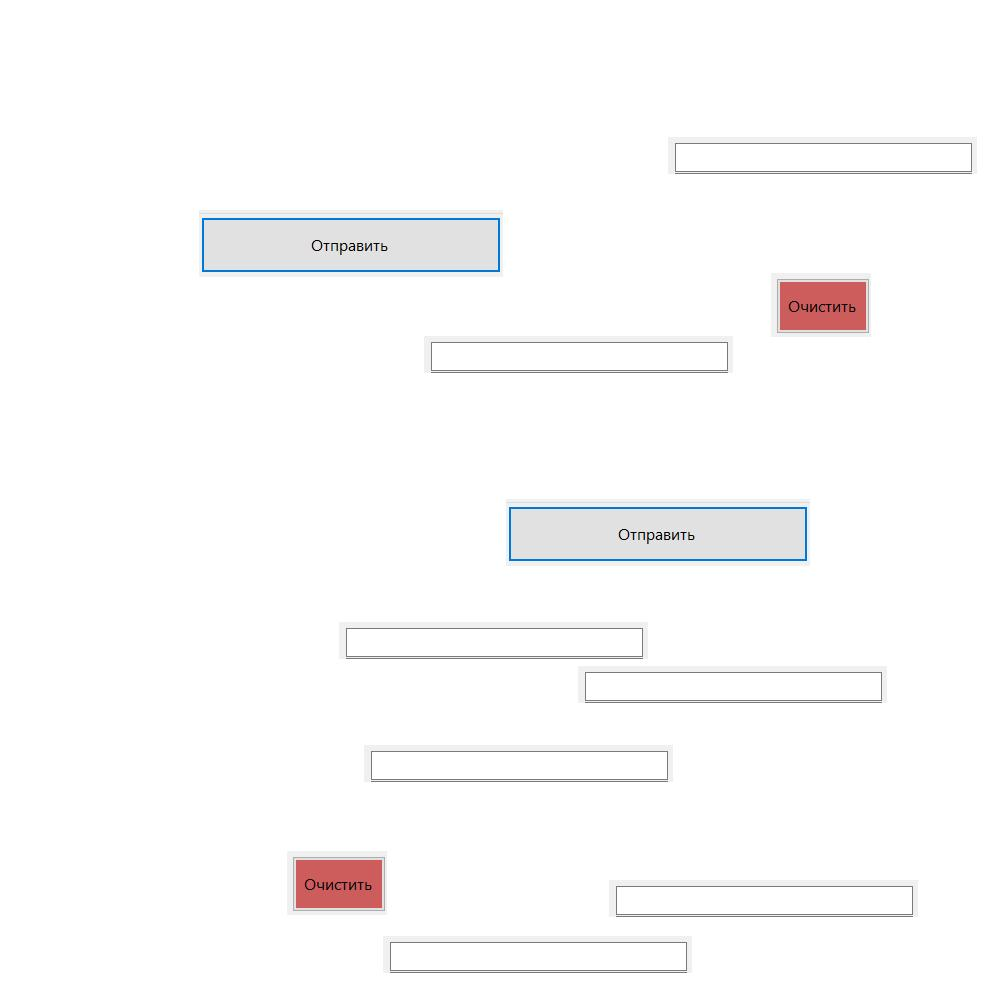Button: (199, 210, 503, 277), (506, 499, 810, 566), (287, 851, 387, 915), (771, 273, 871, 337)
EditText-: (383, 936, 692, 973), (339, 622, 648, 659), (424, 336, 733, 373), (578, 666, 887, 703), (668, 137, 977, 174), (609, 880, 918, 917), (364, 745, 673, 782)
